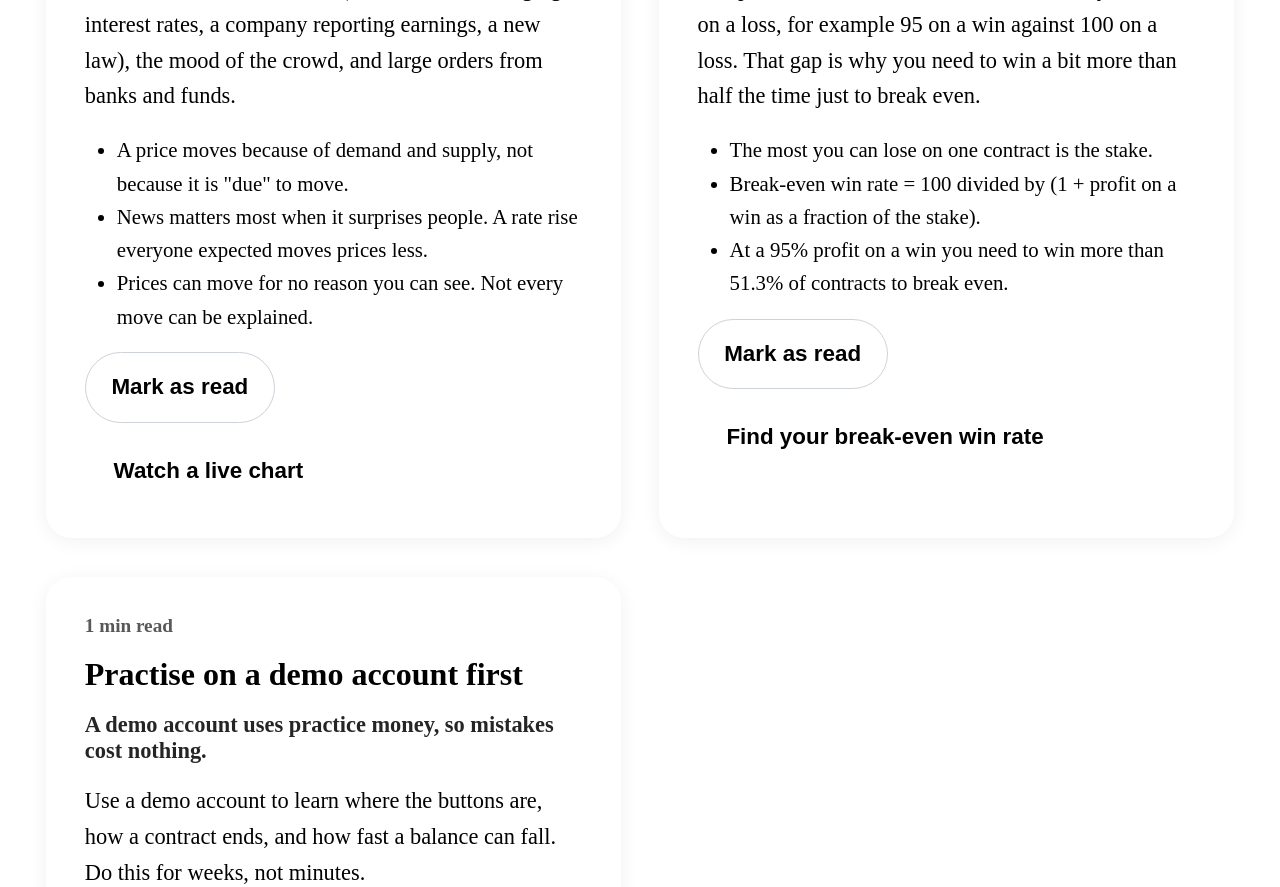
<Learn /> › opens the tool a lesson points to
(page scrolled)
Click the button with test id "dt_learn_try_how_a_trade_works" at (885, 438), box [698,408,1072,466]
(page scrolled)
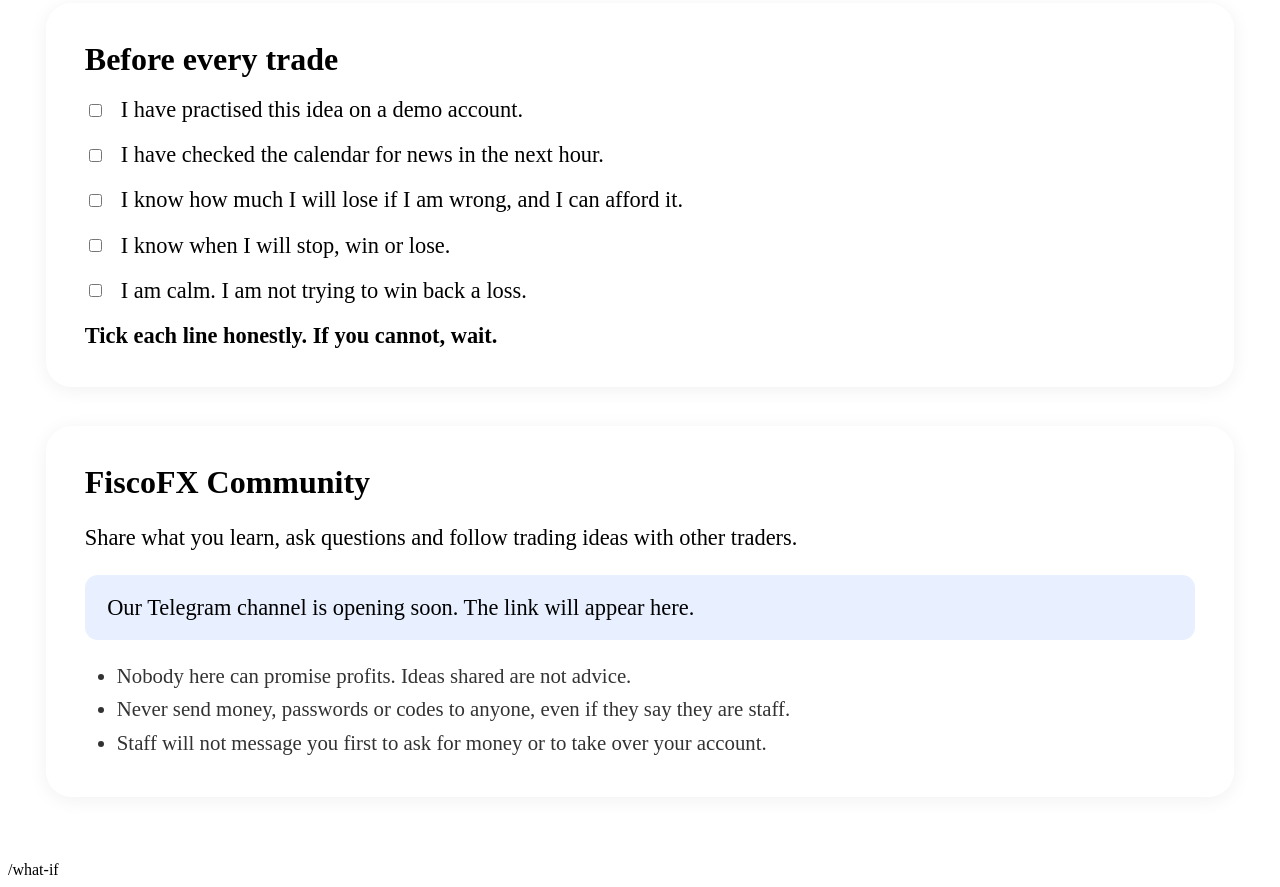
Expected: the text with test id "dt_location" reads "/what-if", [8,861,59,878]
